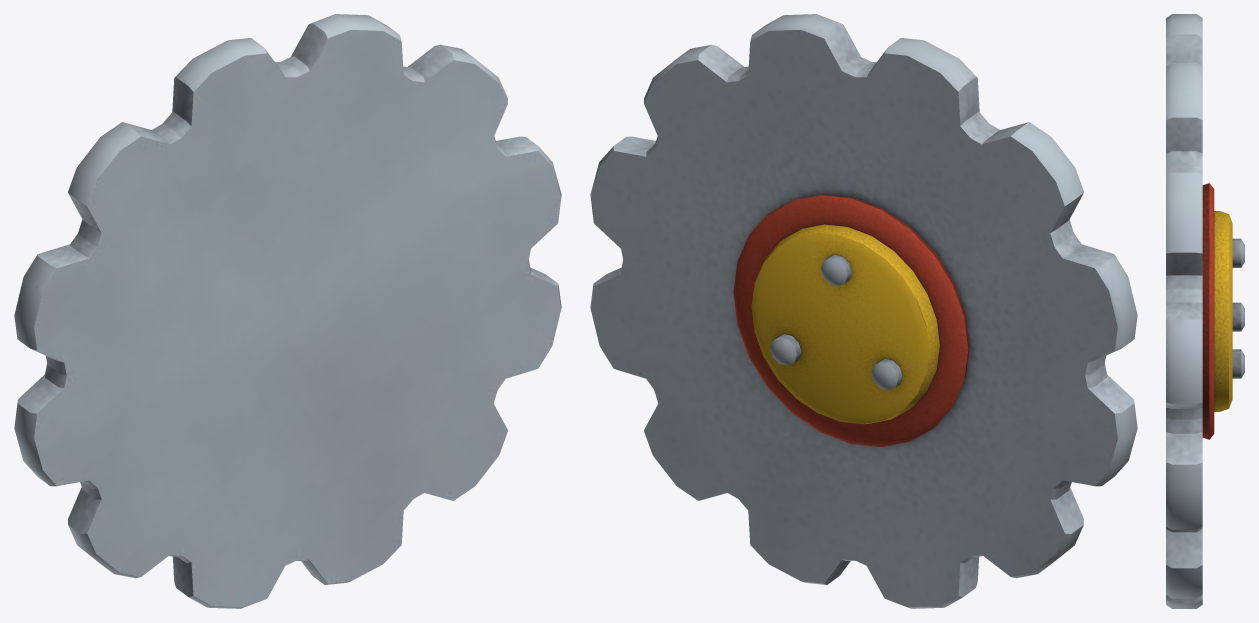
3 views of the same model, side by side, from view 1: azimuth 30°, elevation 25°; view 2: azimuth 150°, elevation 25°; view 3: azimuth 270°, elevation 25° (orthographic). The views are drawn at different scales.
Parts seen in each view (by area): view 1: Brushed_polished_steel; view 2: Brushed_polished_steel, Hardhat_yellow_plastic, Brick_red_glossy_ring; view 3: Brushed_polished_steel, Hardhat_yellow_plastic, Brick_red_glossy_ring.
Part boxes in pixels (x1,y1,x2,y2): Brushed_polished_steel: (14, 14, 561, 608); Brushed_polished_steel: (590, 14, 1137, 608); Hardhat_yellow_plastic: (751, 224, 939, 424); Brick_red_glossy_ring: (733, 194, 969, 446); Brushed_polished_steel: (1166, 14, 1244, 608); Hardhat_yellow_plastic: (1214, 211, 1232, 411); Brick_red_glossy_ring: (1202, 183, 1214, 439).
Bounding box in the file's own units: 0.9607 × 0.9607 × 0.129.
3 materials, 3 textured.
